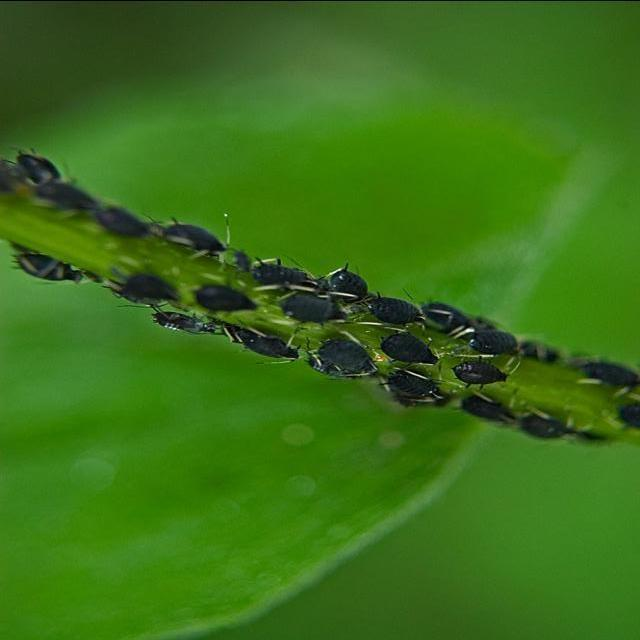aphid: (180, 276, 266, 322), (220, 327, 303, 374), (352, 286, 430, 334), (136, 300, 212, 346), (306, 337, 374, 388), (452, 325, 534, 367), (378, 326, 443, 378), (160, 212, 228, 261), (451, 352, 524, 395), (33, 179, 105, 218), (248, 257, 321, 293), (10, 249, 84, 283), (315, 262, 381, 299), (114, 272, 181, 308), (279, 291, 346, 325), (381, 368, 443, 404), (421, 301, 480, 338), (93, 204, 153, 239), (462, 394, 521, 427), (12, 148, 62, 186), (578, 360, 638, 389)
